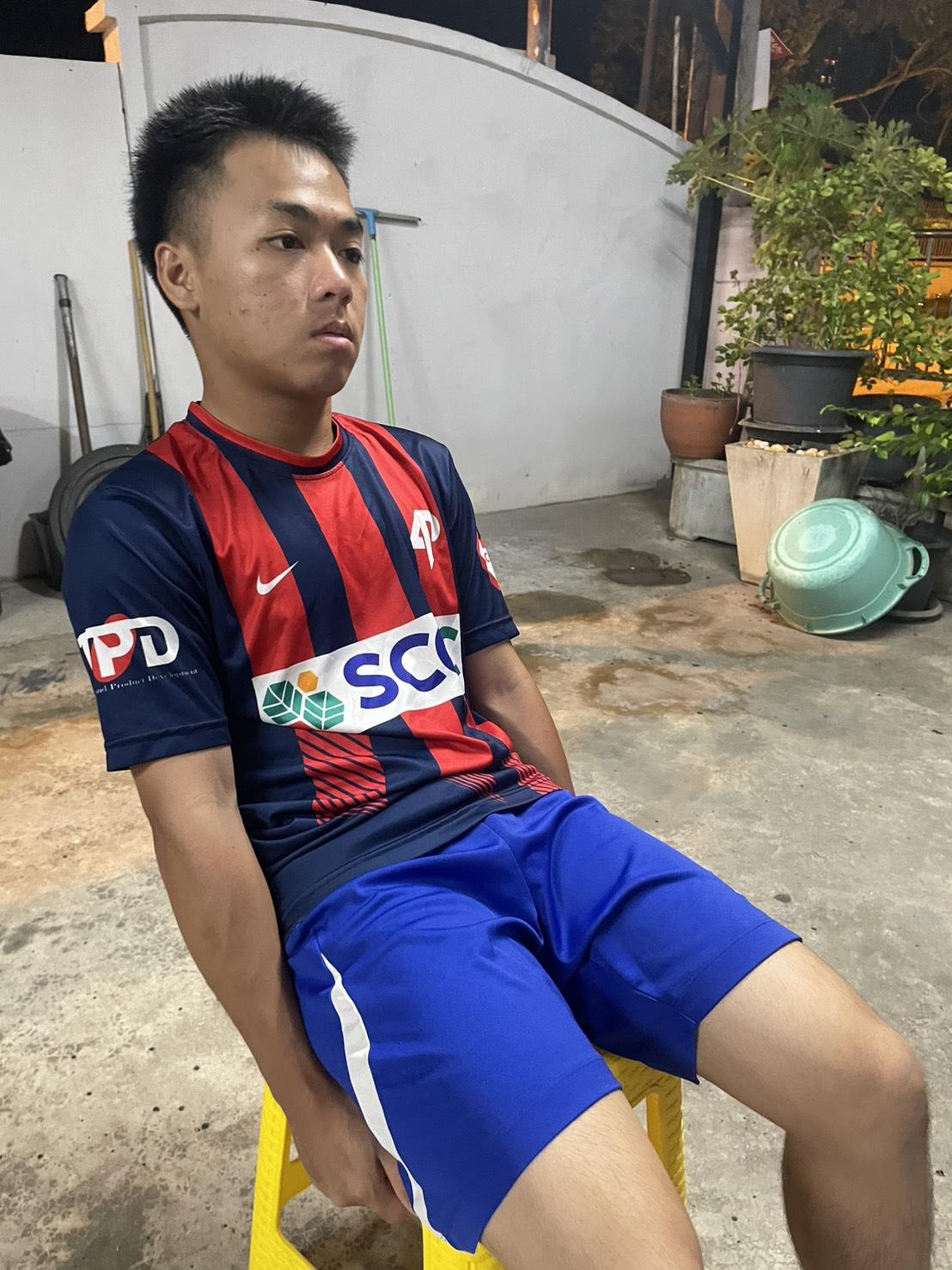BadPosture: (62, 74, 932, 1269)
